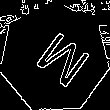M_SW: (22, 23, 88, 92)
